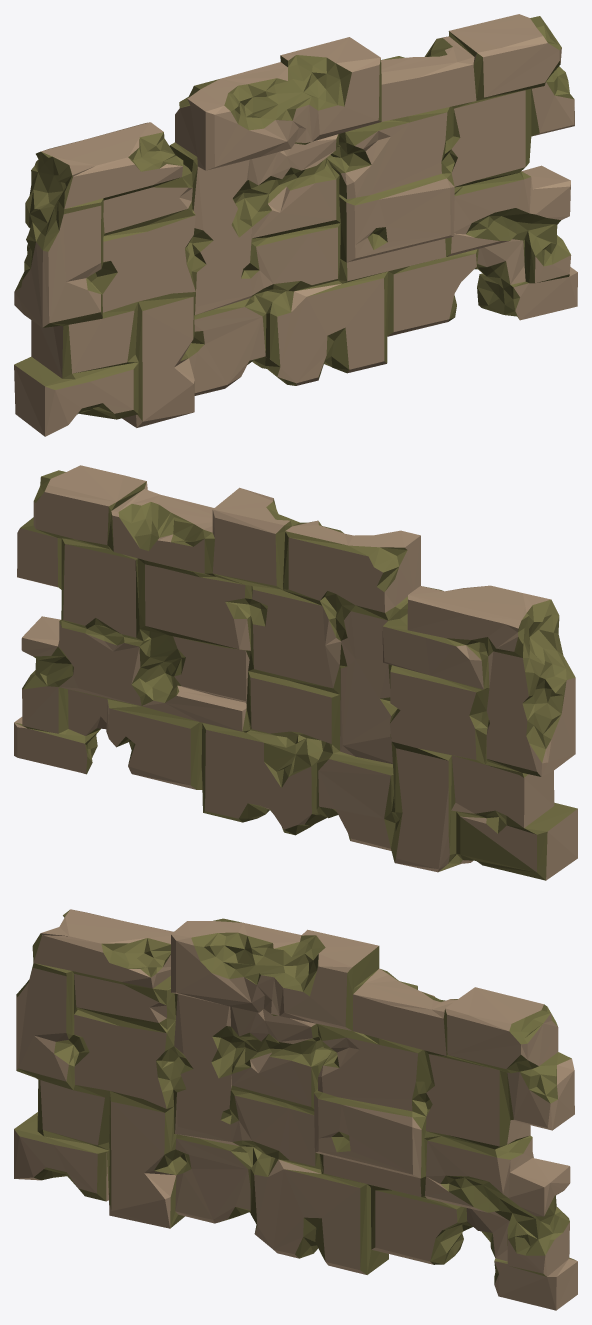
Rendered from jungle_SM_Bld_Ruins_Wall_01.gltf.
3 renders of one model, top to bottom at view 1: azimuth 30°, elevation 25°; view 2: azimuth 150°, elevation 25°; view 3: azimuth 330°, elevation 25°, orthographic.
Visible parts, largest first — view 1: SM_Bld_Ruins_Wall_01; view 2: SM_Bld_Ruins_Wall_01; view 3: SM_Bld_Ruins_Wall_01.
Boxes of the visible parts, x1,y1,x2,y2 form: SM_Bld_Ruins_Wall_01: (14,14,577,436); SM_Bld_Ruins_Wall_01: (14,465,577,880); SM_Bld_Ruins_Wall_01: (14,909,577,1310).
Bounding box in the file's own units: 8.72 × 4.81 × 1.15.
Materials: 1 (1 with a texture image).
